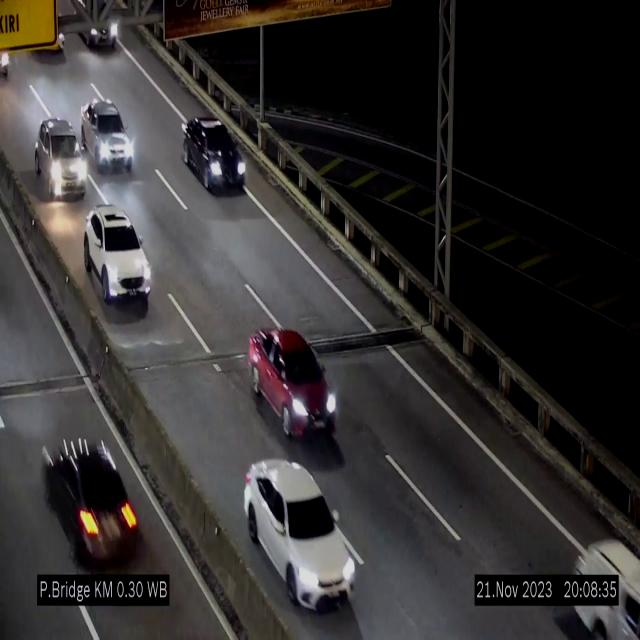Car: (244, 460, 355, 610), (39, 428, 153, 570), (247, 321, 341, 444), (566, 527, 640, 640), (84, 206, 150, 302), (180, 112, 244, 201), (35, 119, 87, 200), (81, 100, 133, 174), (70, 0, 120, 54)
